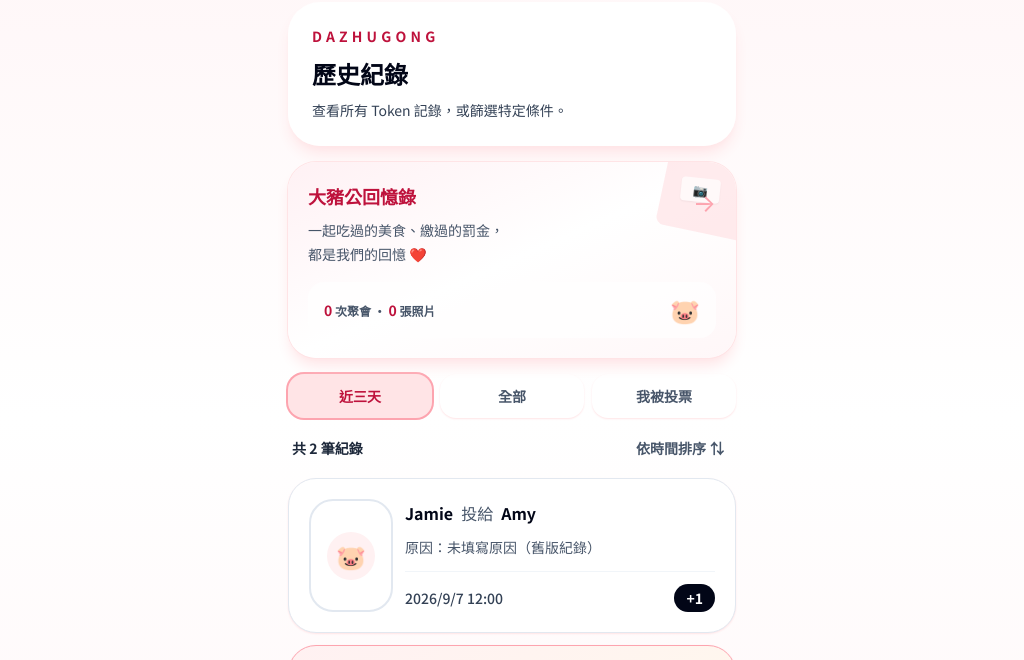
History page › 全部 scope: advanced query › filters by token type (Special 5x)
This screenshot has width=1024, height=660.
Click the tab "全部": (512, 396) 440,374 -> 584,418
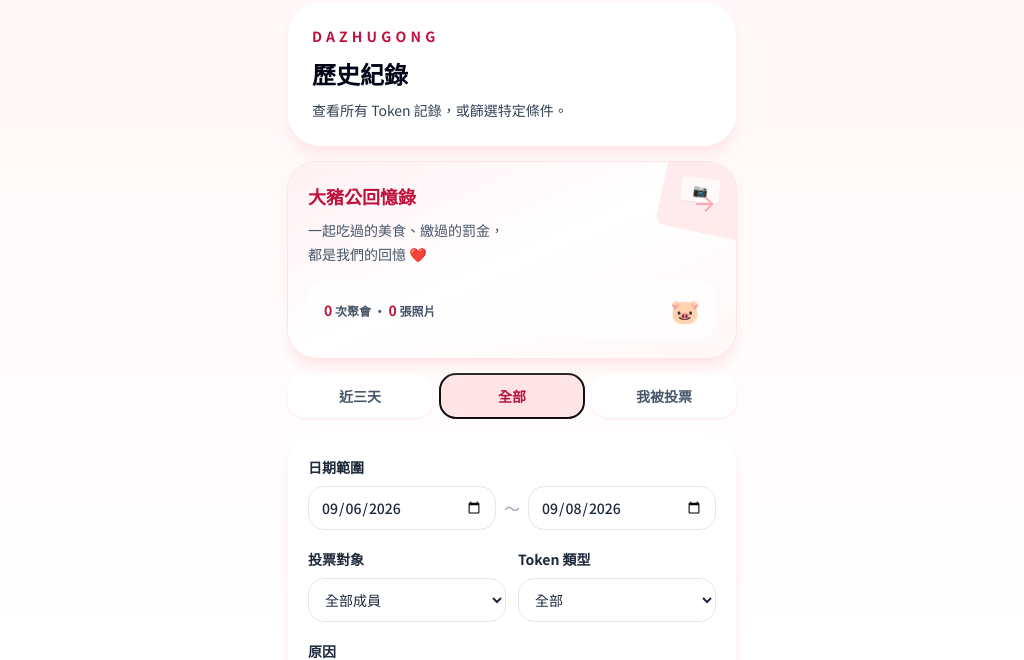
Select "Special 5x" in the dropdown labelled "Token 類型": (617, 600) 518,578 -> 716,622
(page scrolled)
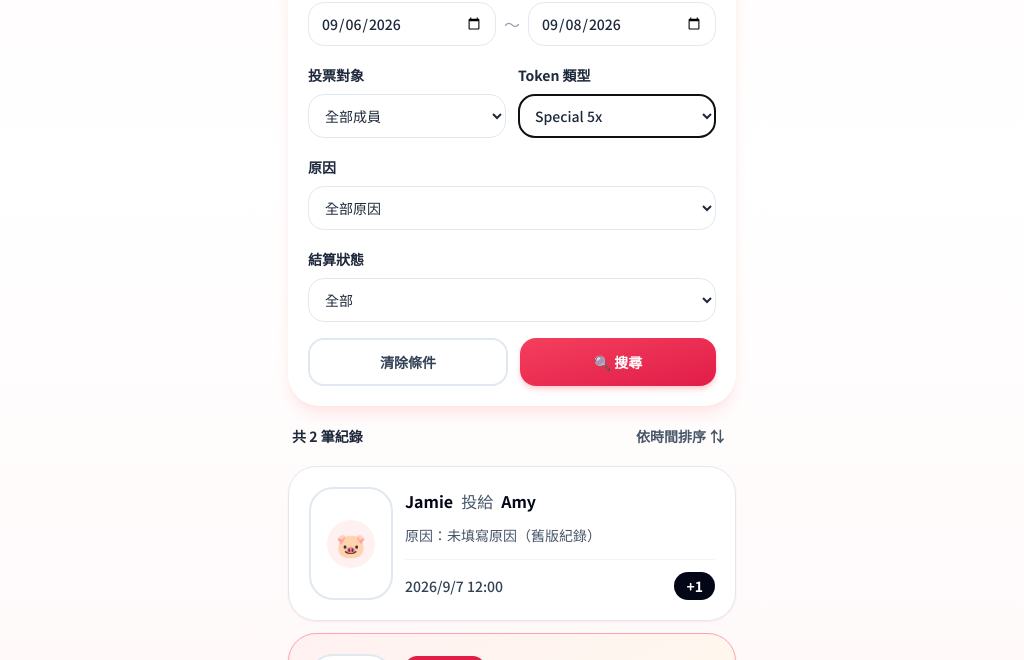
Click the button "🔍 搜尋": (618, 362) 520,338 -> 716,386
(page scrolled)
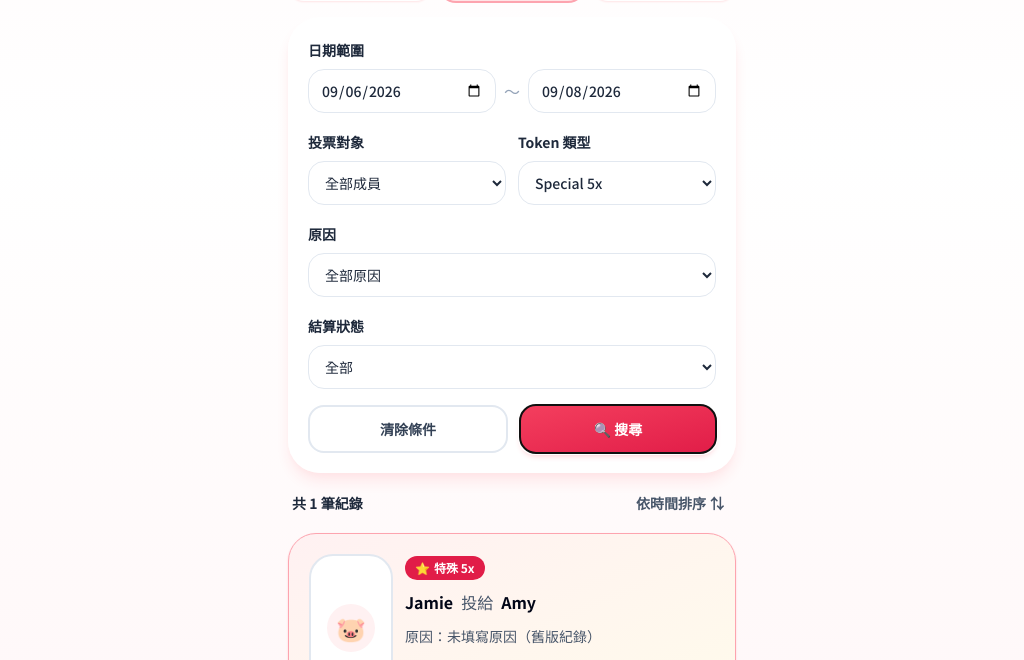
Expected: the text "特殊 5x" is shown, 434,559 -> 475,576
Expected: the text "共 1 筆紀錄" is shown, 292,493 -> 363,513
